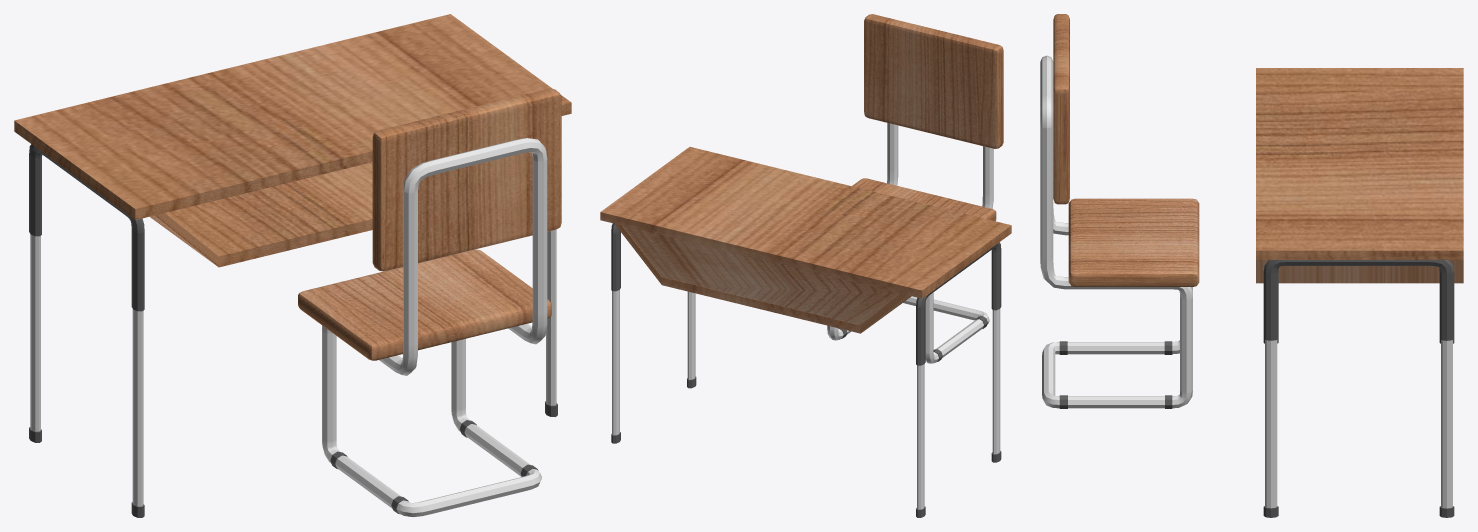
The model's file is DeskAndChair.fbx.
3 renders of one model, left to right at view 1: azimuth 30°, elevation 25°; view 2: azimuth 150°, elevation 25°; view 3: azimuth 270°, elevation 25°, orthographic. The views are drawn at different scales.
Parts seen in each view (by area): view 1: polySurface46_lambert64_0.037, polySurface46_lambert64_0.094; view 2: polySurface46_lambert64_0.037, polySurface46_lambert64_0.094; view 3: polySurface46_lambert64_0.037, polySurface46_lambert64_0.094.
Boxes of the visible parts, <box> form: polySurface46_lambert64_0.037: <box>14,14,571,517</box>; polySurface46_lambert64_0.094: <box>298,88,561,516</box>; polySurface46_lambert64_0.037: <box>600,147,1011,517</box>; polySurface46_lambert64_0.094: <box>827,14,1003,363</box>; polySurface46_lambert64_0.037: <box>1256,68,1463,517</box>; polySurface46_lambert64_0.094: <box>1040,14,1199,408</box>.
Size of the model in its own units: 331 by 321 by 324.
3 materials, 1 textured.
